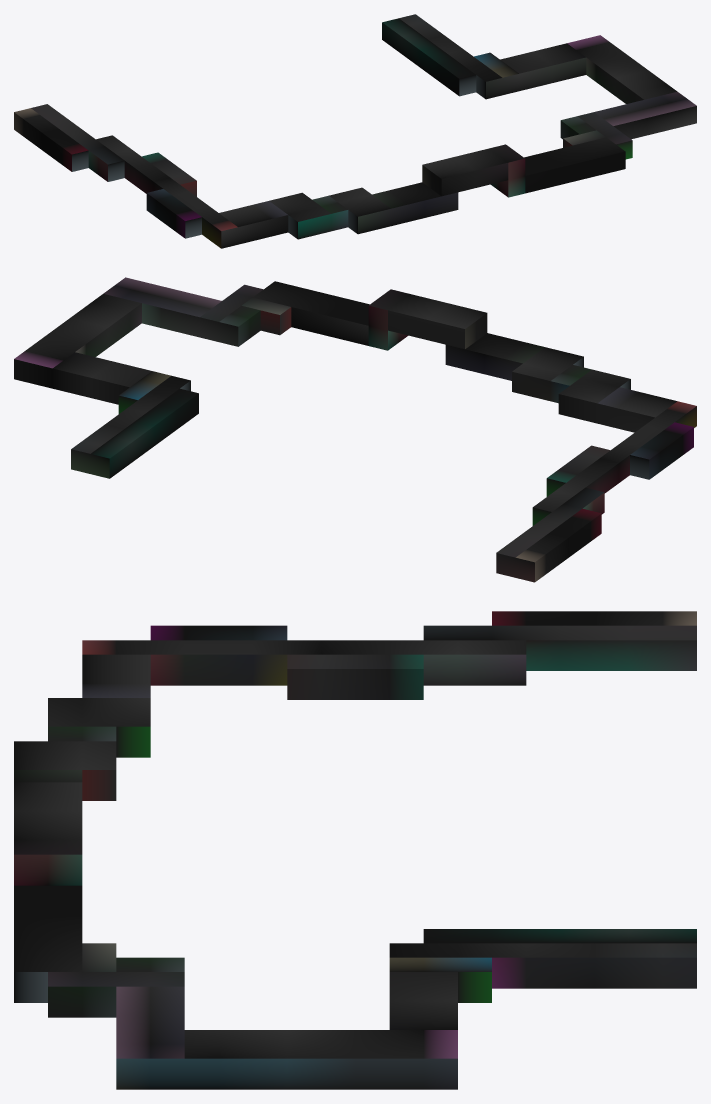
File: Cable_Q_00.fbx
The picture shows the model from 3 angles, top to bottom: view 1: azimuth 30°, elevation 25°; view 2: azimuth 150°, elevation 25°; view 3: azimuth 270°, elevation 25°; orthographic projection. The views are drawn at different scales.
Parts seen in each view (by area): view 1: Cable_Q_00; view 2: Cable_Q_00; view 3: Cable_Q_00.
Boxes of the visible parts, x1,y1,x2,y2 form: Cable_Q_00: [14, 14, 696, 248]; Cable_Q_00: [14, 277, 696, 582]; Cable_Q_00: [14, 611, 696, 1089].
Bounding box in the file's own units: 155 × 10 × 100.
